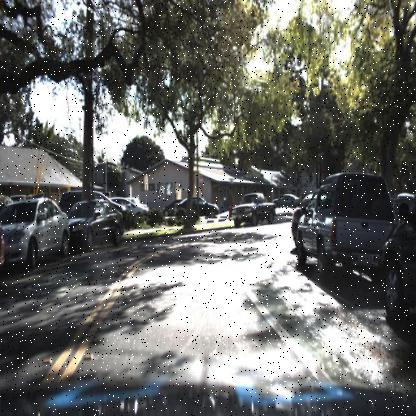car: (294, 171, 398, 292), (1, 194, 72, 260), (68, 198, 125, 253), (231, 192, 278, 226), (175, 194, 217, 222), (112, 197, 150, 225), (288, 195, 306, 252), (272, 182, 302, 214), (126, 199, 150, 231), (161, 196, 185, 226), (270, 193, 301, 210), (162, 199, 184, 218)
